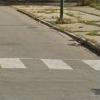Crosswalk: (5, 49, 100, 76)
